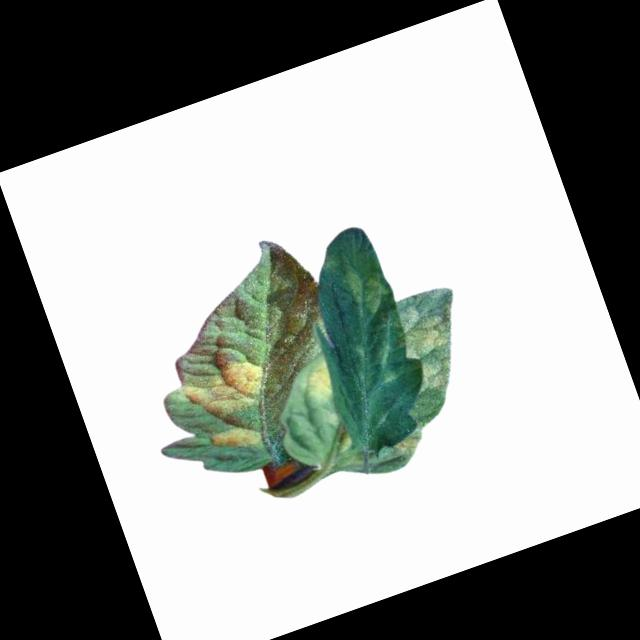Leaf_Mold: (390, 292, 478, 402), (177, 353, 274, 429), (334, 254, 393, 322), (205, 417, 265, 464), (294, 358, 340, 405), (387, 429, 424, 463)
